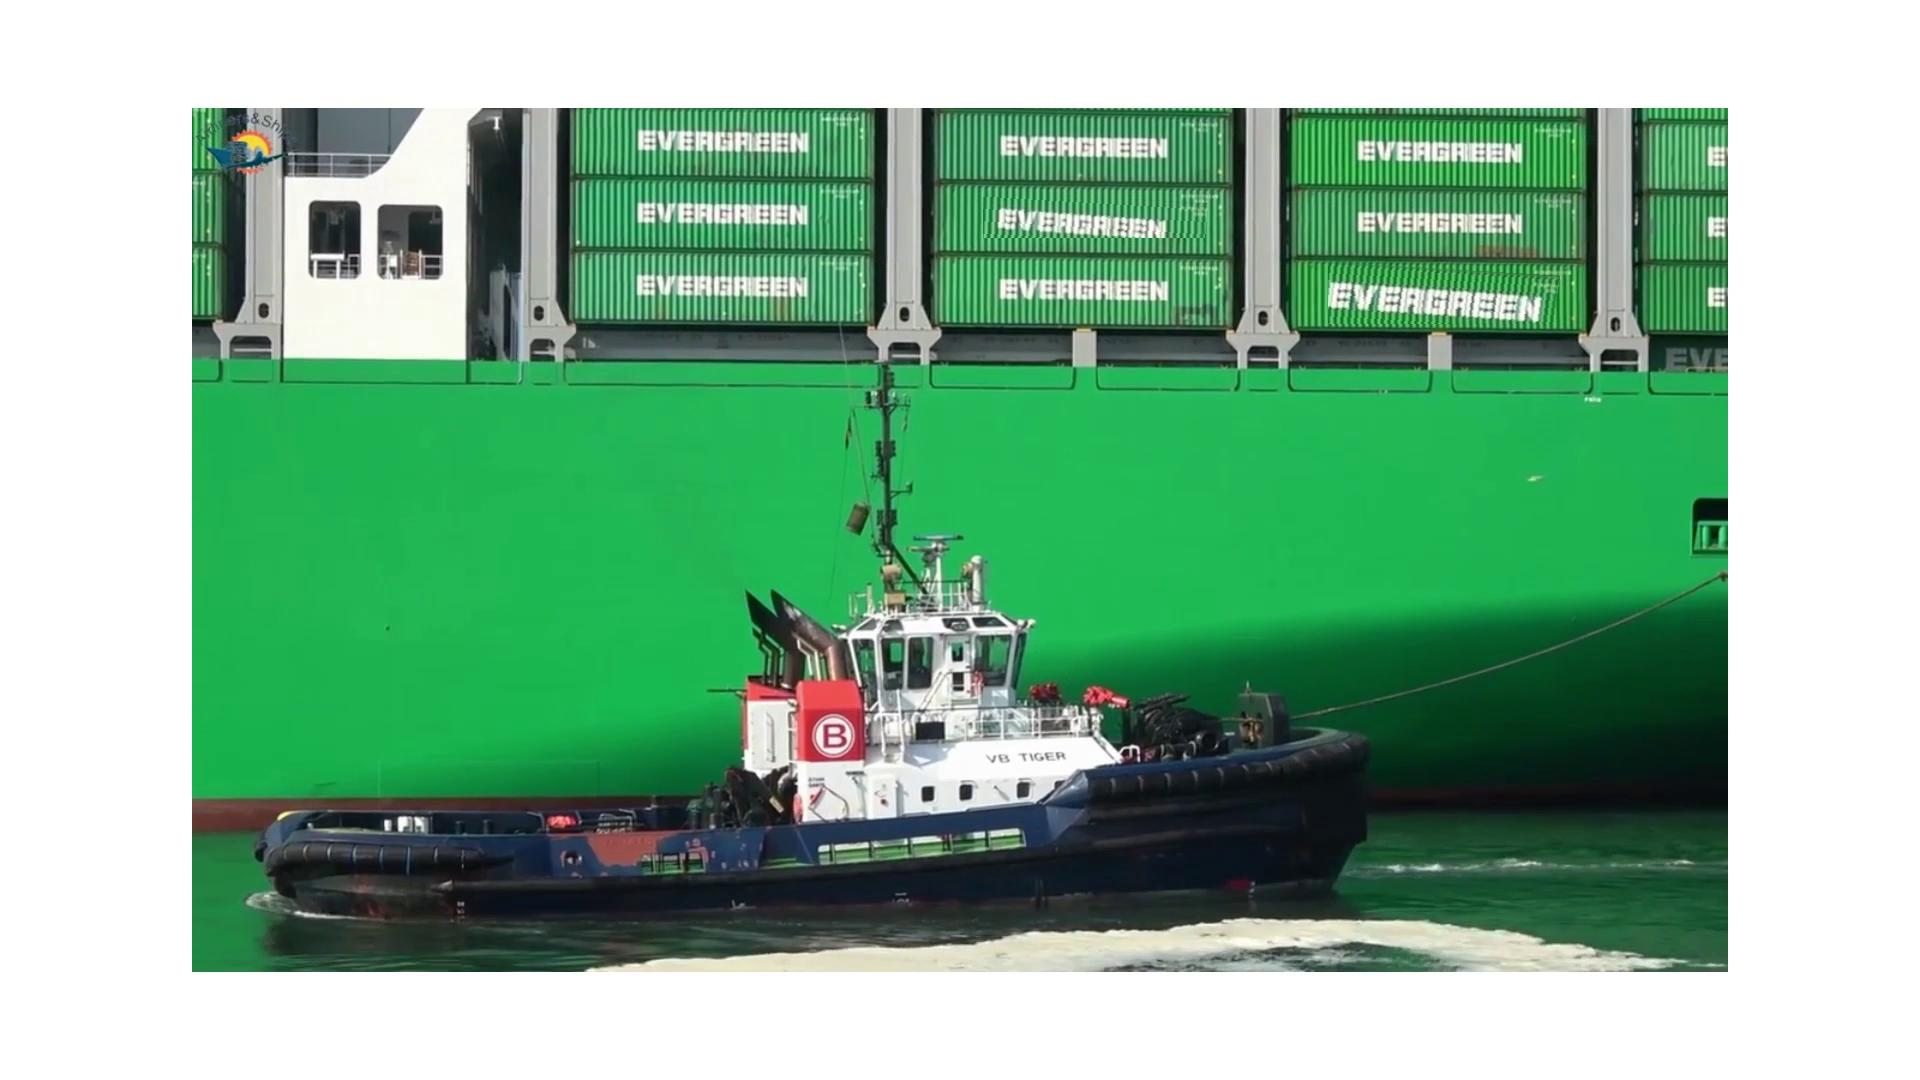OCR: (1328, 261, 1560, 324), (982, 190, 1208, 239)
